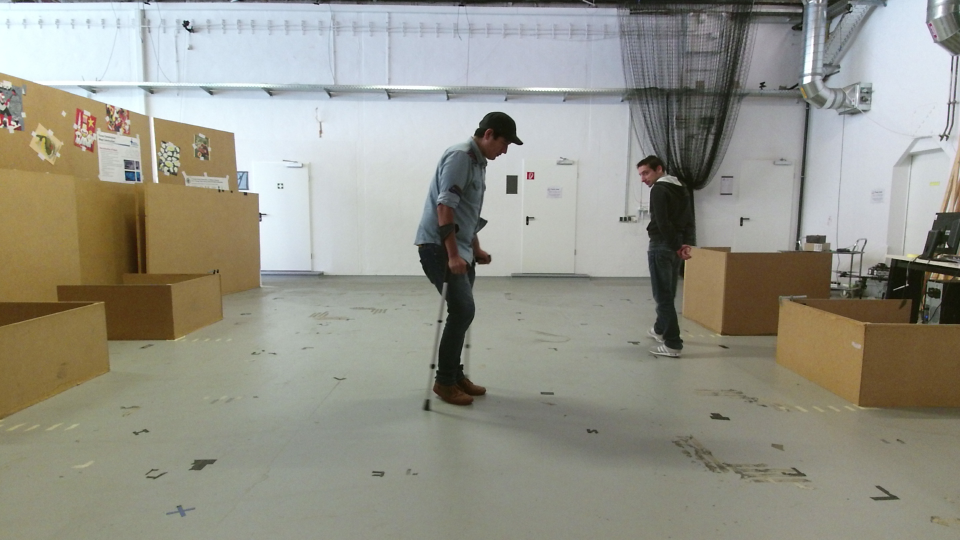crutches: (399, 110, 525, 417)
